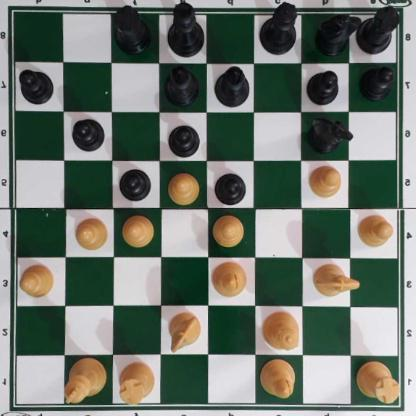black-bishop: (163, 65, 200, 106), (214, 65, 250, 106)
black-king: (167, 1, 203, 59)
black-knight: (317, 11, 359, 57), (307, 115, 354, 153)
black-pawn: (18, 69, 54, 105), (360, 65, 395, 101), (72, 116, 105, 152), (167, 123, 201, 157), (309, 68, 340, 105), (119, 166, 151, 201), (214, 170, 246, 204)
black-queen: (259, 2, 302, 56)
black-rook: (354, 5, 403, 53), (112, 3, 151, 56)
white-bishop: (261, 357, 296, 398), (211, 259, 247, 296)
white-king: (64, 356, 107, 405)
white-knight: (312, 263, 361, 297), (166, 311, 202, 352)
white-pawn: (19, 262, 55, 299), (76, 213, 109, 251), (358, 213, 394, 247), (122, 213, 155, 247), (310, 164, 343, 198), (167, 171, 201, 203), (213, 213, 245, 247)
white-queen: (263, 307, 299, 352)
white-rook: (354, 359, 401, 402), (116, 360, 156, 405)
